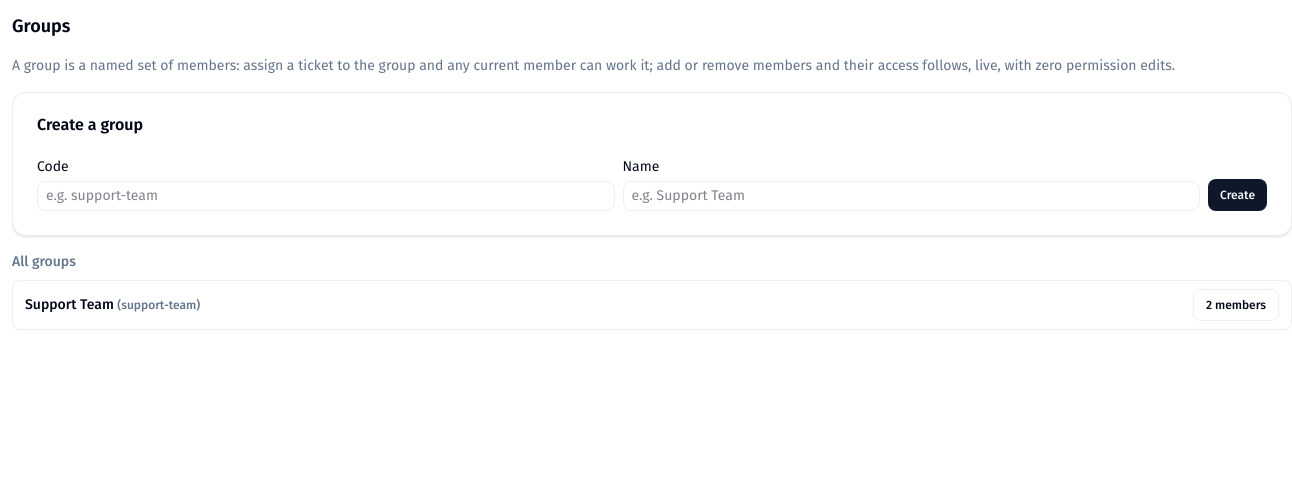
AdminGroupsPage › shows the member count and expands to list current members
This screenshot has width=1292, height=501.
Click the button with test id "admin-group-expand-g1".
click(1236, 305)  # box [1193,289,1279,321]
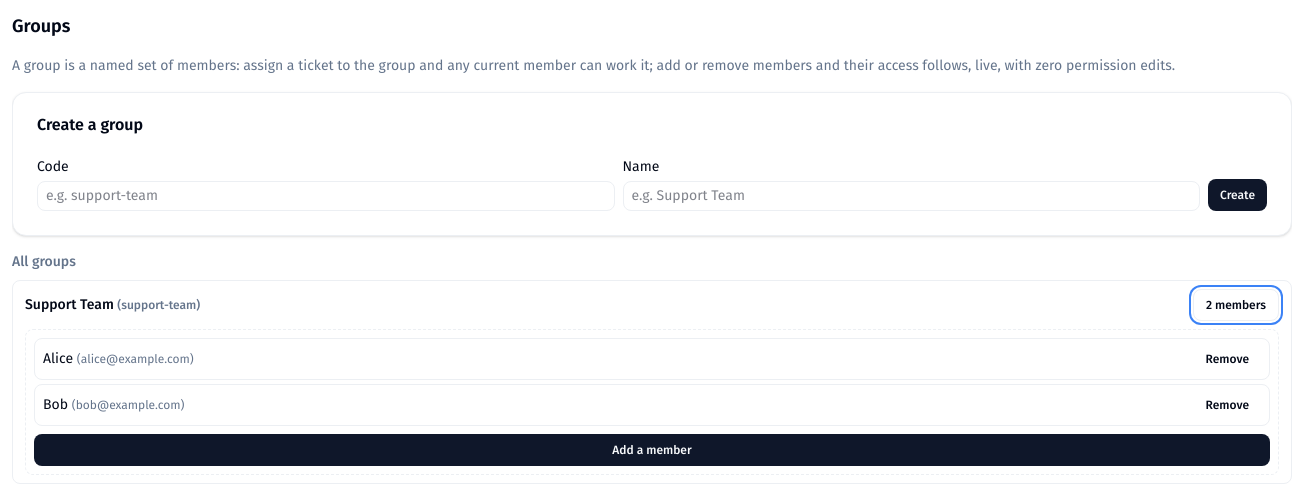
Check: the list with test id "admin-group-members-g1" shows "Alice", box [43,350,73,367]
Check: the list with test id "admin-group-members-g1" shows "Bob", box [43,396,68,413]
